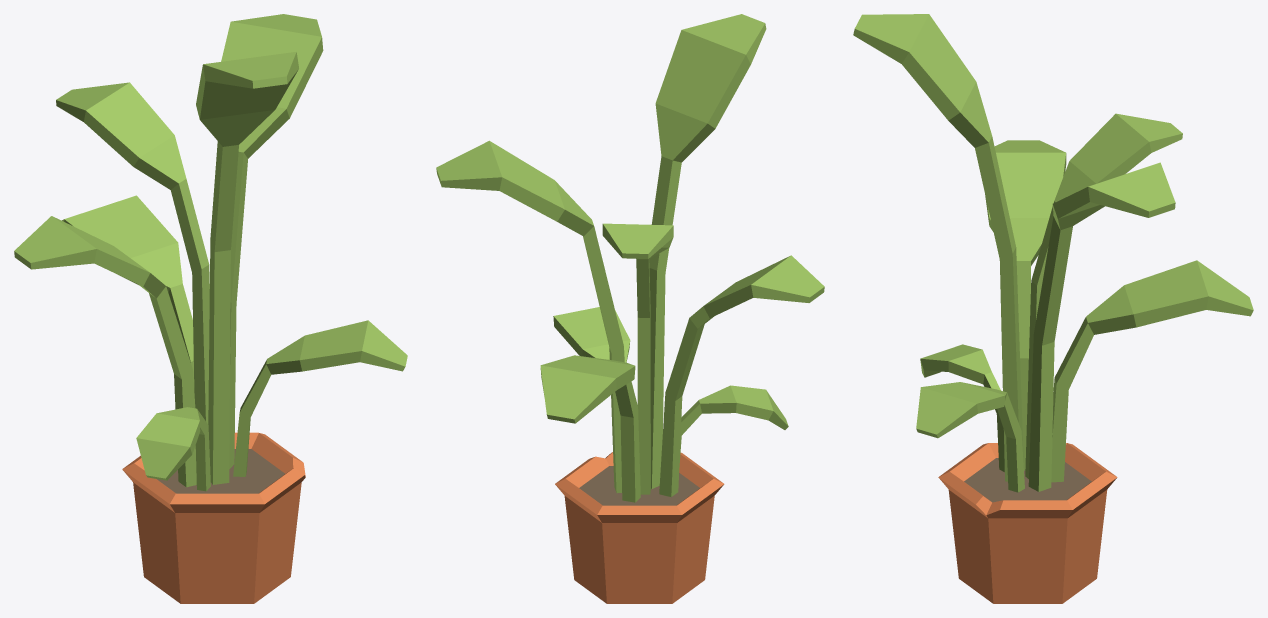
The model's file is SM_Prop_PotPlant_03.fbx.
3 renders of one model, left to right at view 1: azimuth 30°, elevation 25°; view 2: azimuth 150°, elevation 25°; view 3: azimuth 270°, elevation 25°, orthographic. The views are drawn at different scales.
Parts seen in each view (by area): view 1: SM_Prop_PotPlant_03; view 2: SM_Prop_PotPlant_03; view 3: SM_Prop_PotPlant_03.
Boxes of the visible parts, x1,y1,x2,y2 form: SM_Prop_PotPlant_03: (14,14,407,603); SM_Prop_PotPlant_03: (436,14,824,603); SM_Prop_PotPlant_03: (853,14,1253,603).
Size of the model in its own units: 75.9 by 115 by 77.49.
